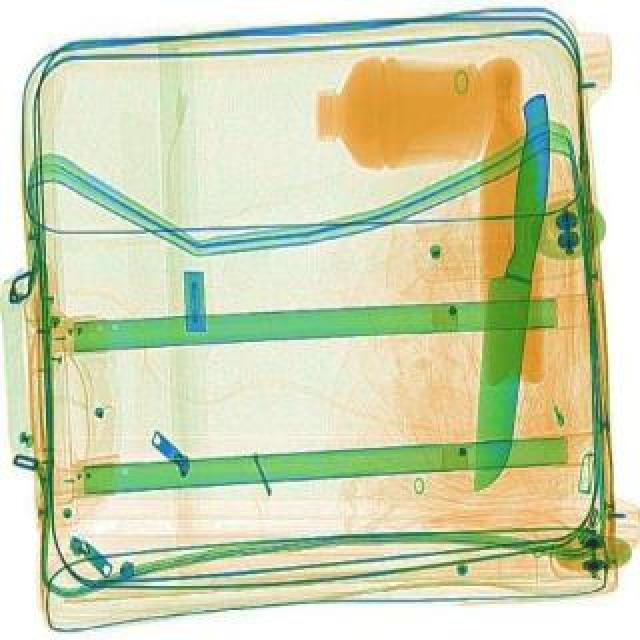knife: (460, 90, 560, 492)
